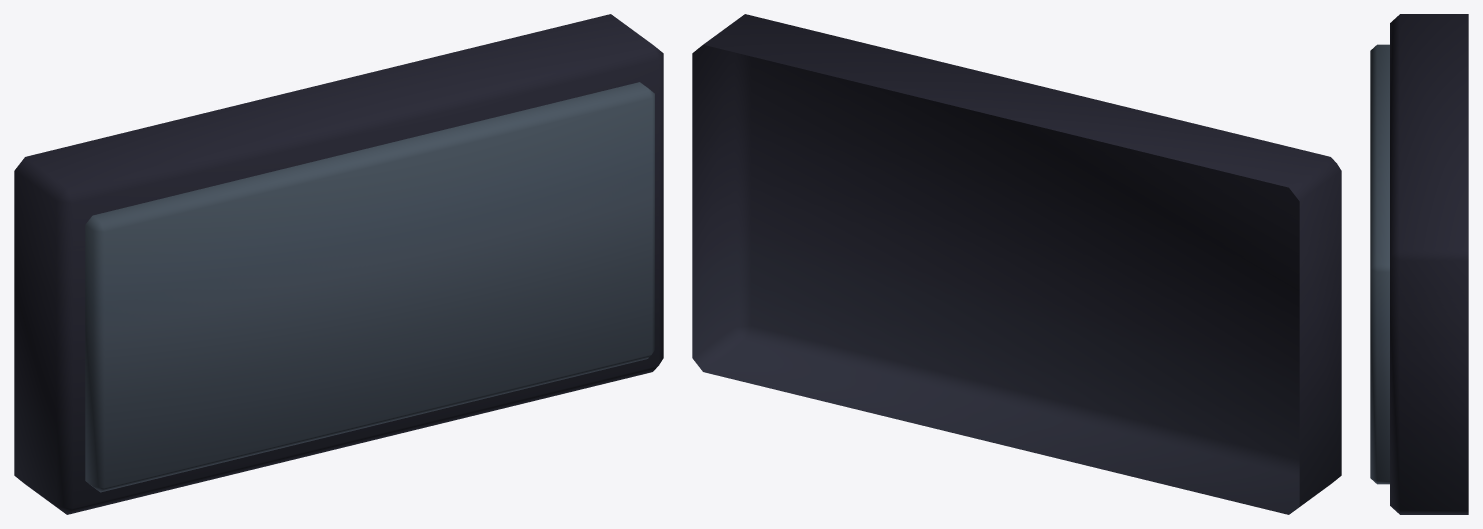
Rendered from ElectricBox_2_C_2.fbx.
3 views of the same model, side by side, from view 1: azimuth 30°, elevation 25°; view 2: azimuth 150°, elevation 25°; view 3: azimuth 270°, elevation 25° (orthographic). The views are drawn at different scales.
Visible parts, largest first — view 1: ElectricBox_2_C_2; view 2: ElectricBox_2_C_2; view 3: ElectricBox_2_C_2.
Part boxes in pixels (box(x1,y1,x2,y2)): ElectricBox_2_C_2: box(14, 14, 663, 514); ElectricBox_2_C_2: box(692, 14, 1341, 514); ElectricBox_2_C_2: box(1370, 14, 1468, 514).
Bounding box in the file's own units: 88.15 × 45.42 × 15.17.
